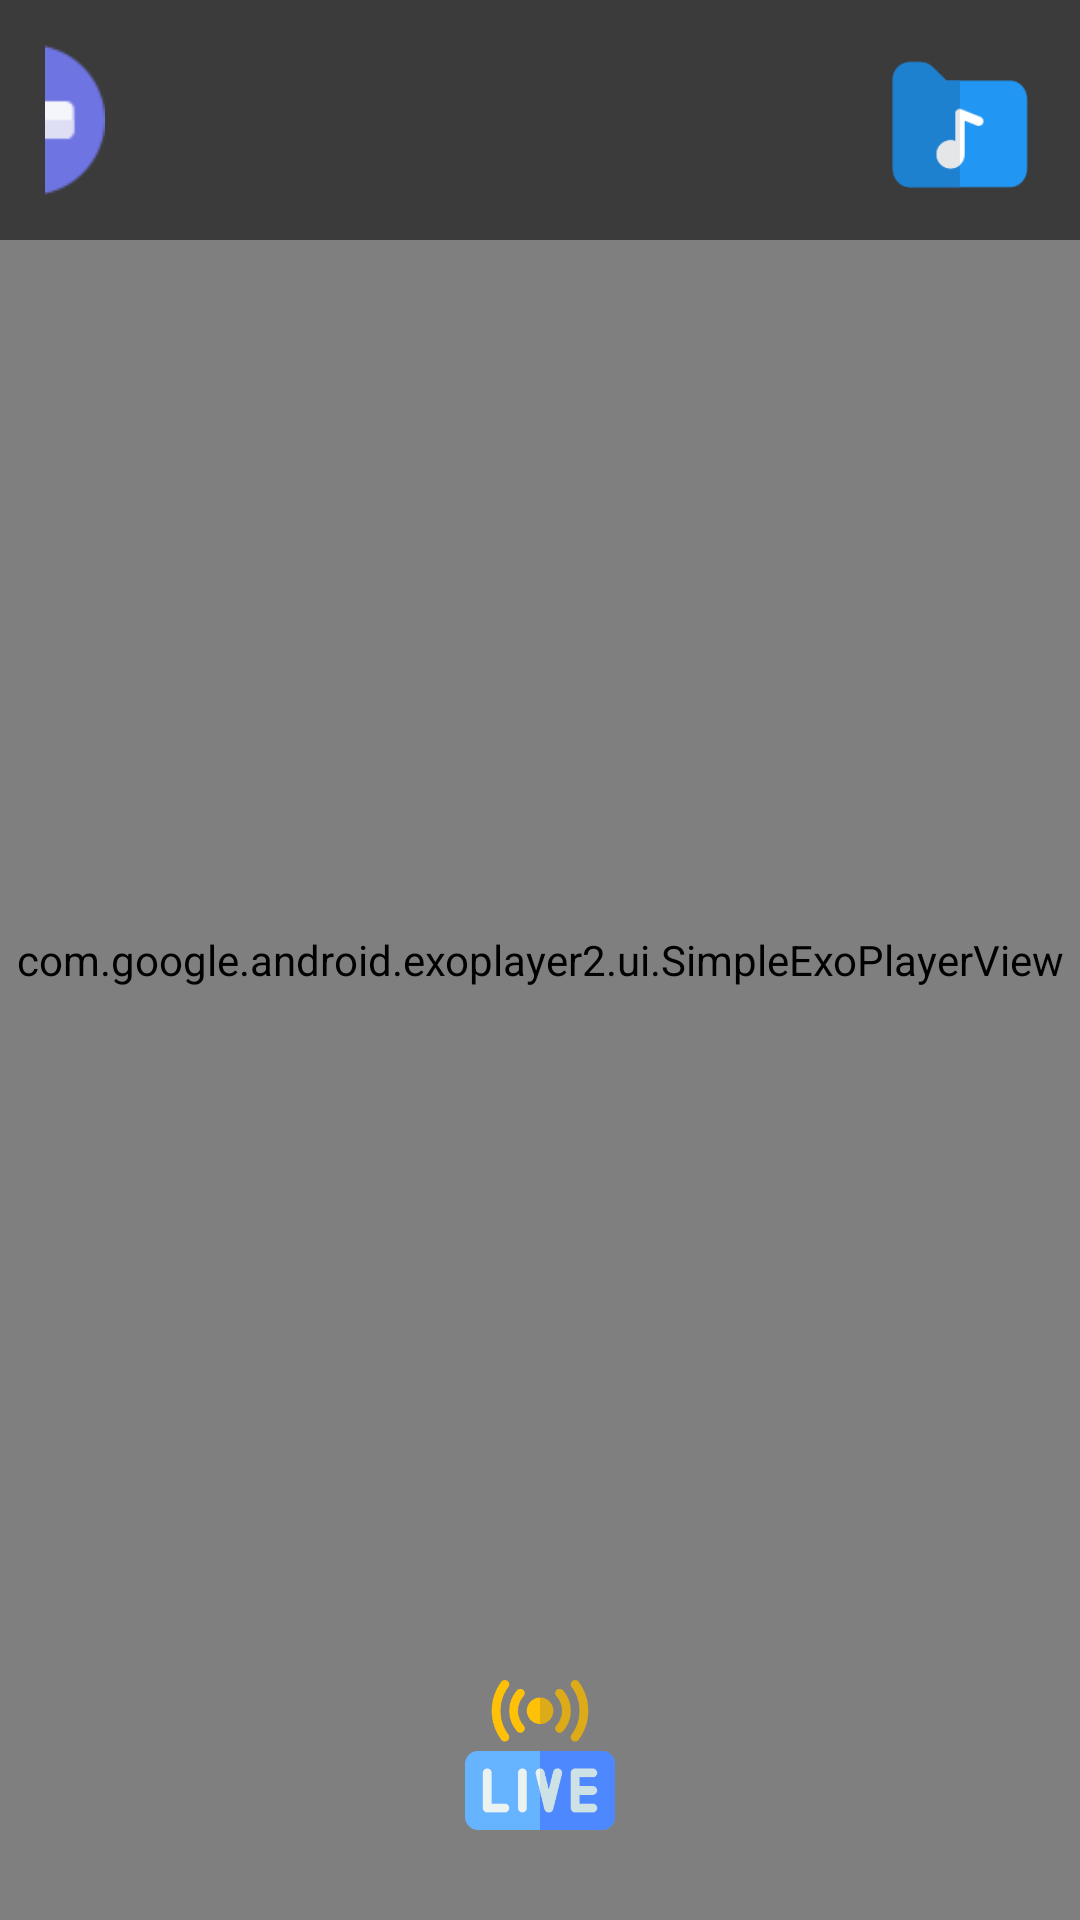

Named icons in this screenshot (1080px x 1920px) and their centers, (x,y):
music folder: (960,124)
